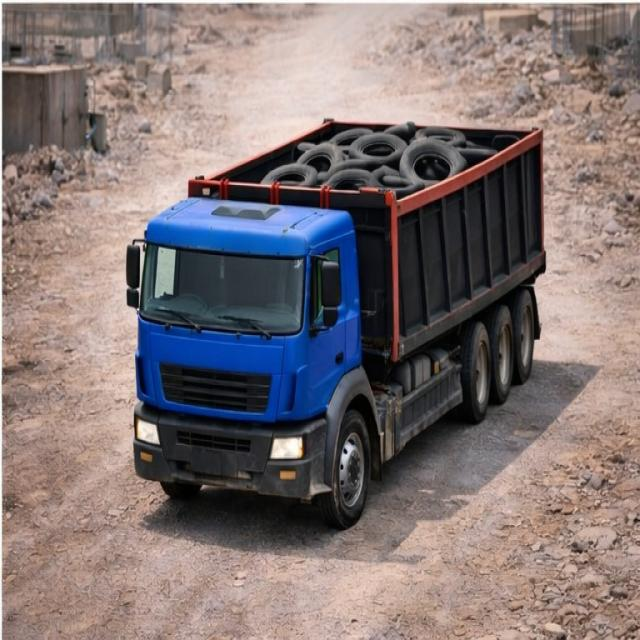Box: (195, 114, 547, 192)
Truck: (122, 94, 553, 532)
